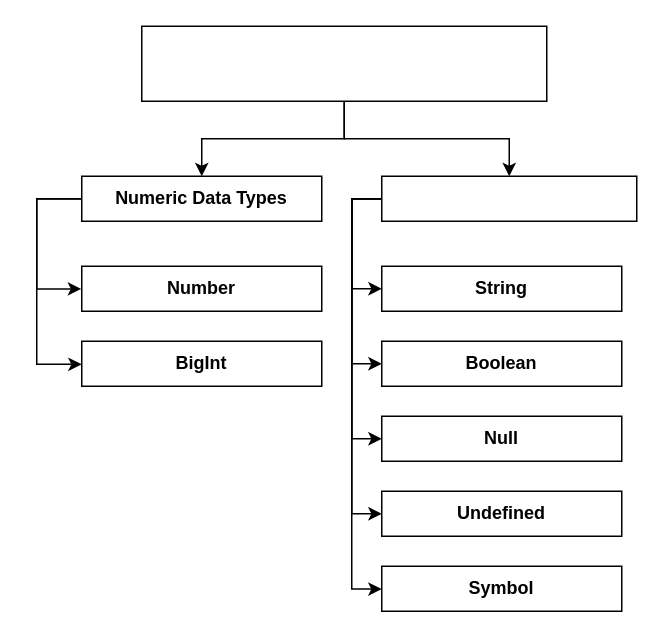
Some shapes in this 663 by 638 pixel diagram are drawn without their labels. Each missing label, with the box of its shape:
Non Numeric Data Types: (380, 175, 637, 221)
Primitive Data Types: (140, 25, 547, 101)
